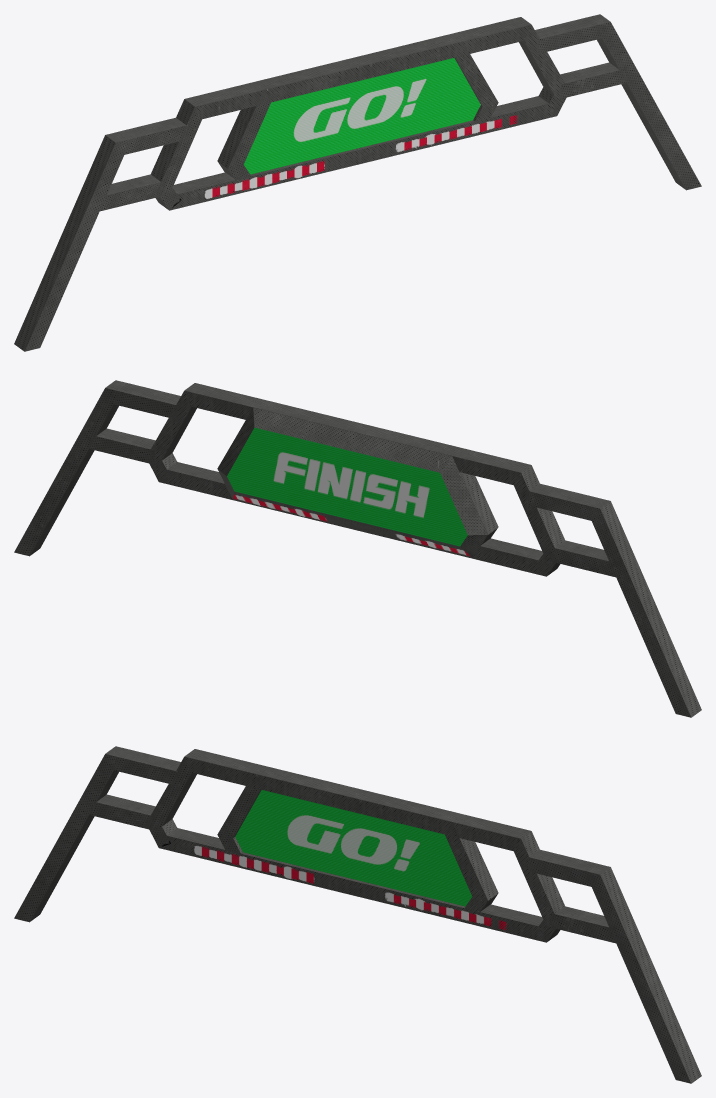
The model's file is finish board 1.fbx.
3 views of the same model, one above another, from view 1: azimuth 30°, elevation 25°; view 2: azimuth 150°, elevation 25°; view 3: azimuth 330°, elevation 25° (orthographic).
Parts seen in each view (by area): view 1: group2_pCube11_X_0; view 2: group2_pCube11_X_0; view 3: group2_pCube11_X_0.
Boxes of the visible parts, bbox=[...] form: group2_pCube11_X_0: bbox=[14, 14, 701, 351]; group2_pCube11_X_0: bbox=[14, 380, 701, 717]; group2_pCube11_X_0: bbox=[14, 746, 701, 1083].
Bounding box in the file's own units: 3080 × 884 × 126.
2 materials, 2 textured.
